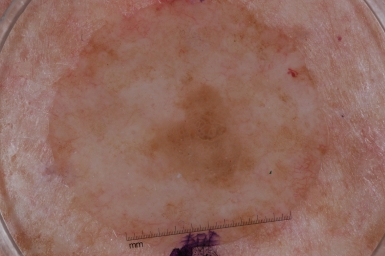seborrheic keratosis: (132, 70, 264, 200)
